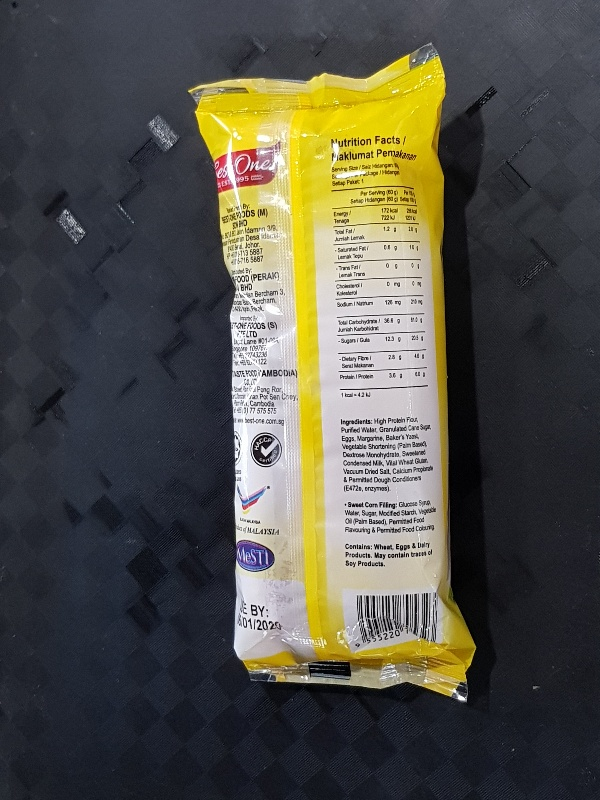Tinges Roll Sweet Corn: (186, 43, 478, 708)
